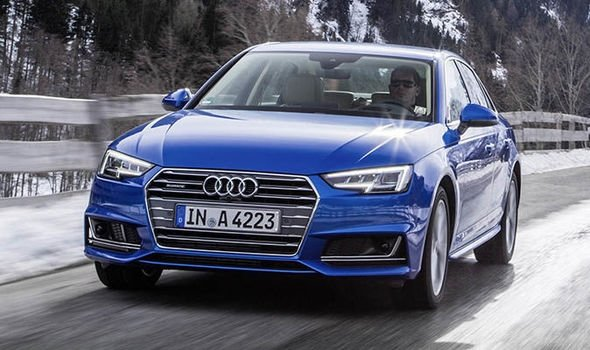audi: (197, 173, 261, 205)
